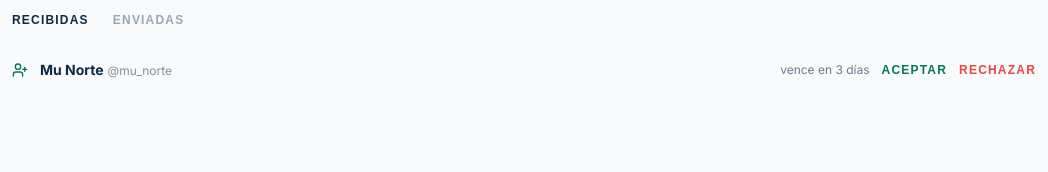
Scenario: InvitationsInbox › vacía por dirección y errores de carga y de respuesta
The image size is (1048, 172).
Click the button with test id "invitation-accept-1": coordinates (914, 70) [882,62,947,78]
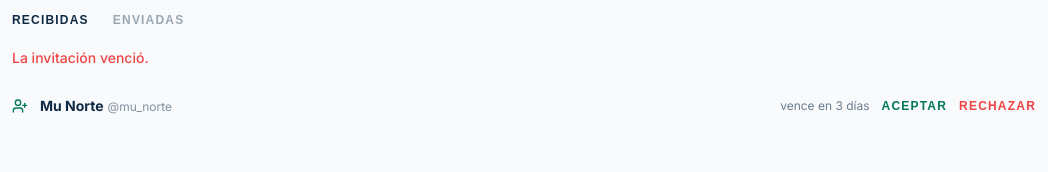
Expected: the message with test id "invitations-error" shows "La invitación venció", [12,49,149,66]
Click the tab "Enviadas": coordinates (149, 22) [113,12,184,32]
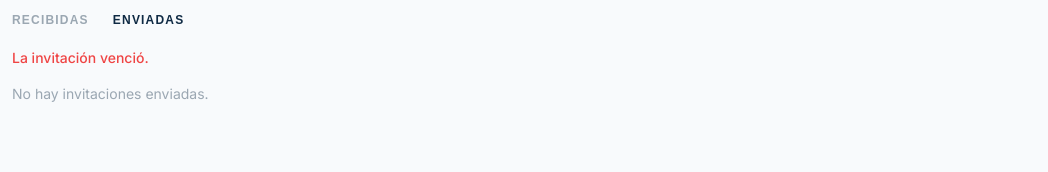
Expected: the text with test id "invitations-empty" shows "No hay invitaciones enviadas", [12,85,209,102]
